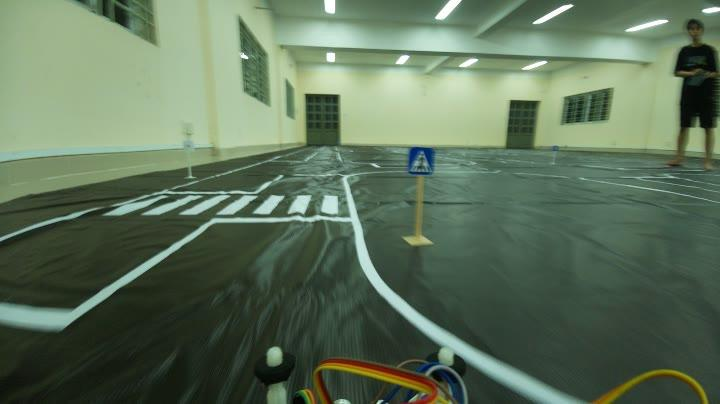crosswalk: (403, 140, 440, 180)
